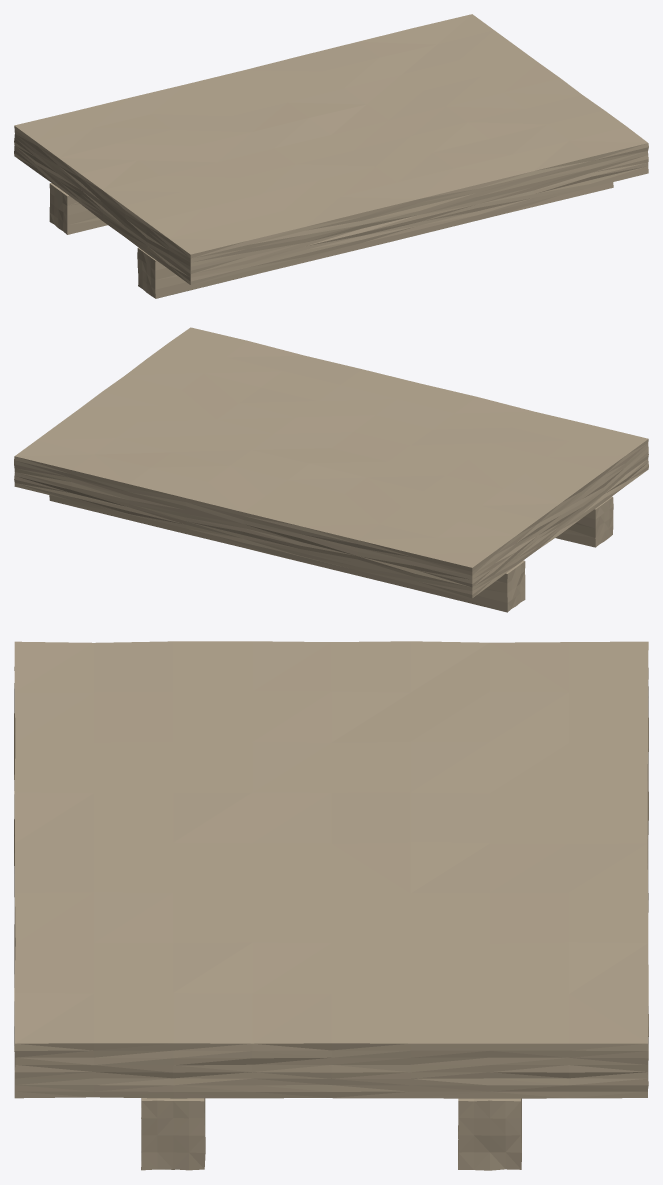
File: SM_Ceiling_A.fbx
3 views of the same model, one above another, from view 1: azimuth 30°, elevation 25°; view 2: azimuth 150°, elevation 25°; view 3: azimuth 270°, elevation 25° (orthographic). The views are drawn at different scales.
Parts seen in each view (by area): view 1: SM_Ceiling_A; view 2: SM_Ceiling_A; view 3: SM_Ceiling_A.
Boxes of the visible parts, left/top/right/bottom form: SM_Ceiling_A: left=14, top=14, right=648, bottom=298; SM_Ceiling_A: left=14, top=327, right=648, bottom=612; SM_Ceiling_A: left=14, top=641, right=648, bottom=1170.
Size of the model in its own units: 6.01 by 0.8915 by 4.01.
